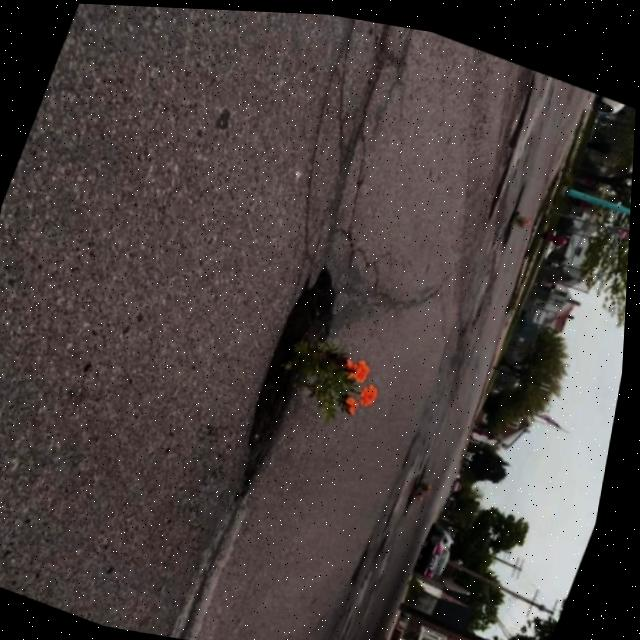Pothole: (200, 190, 416, 534), (410, 47, 557, 297), (317, 507, 392, 640), (488, 143, 544, 270), (396, 435, 445, 549)
